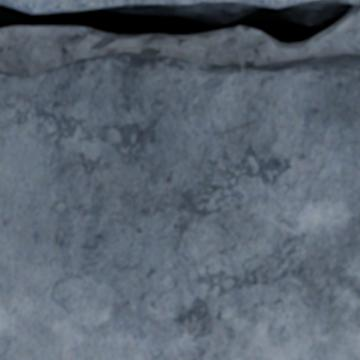brick: (0, 53, 359, 359), (0, 0, 226, 13), (230, 0, 308, 6), (330, 0, 359, 4)
crack: (0, 0, 357, 45)
